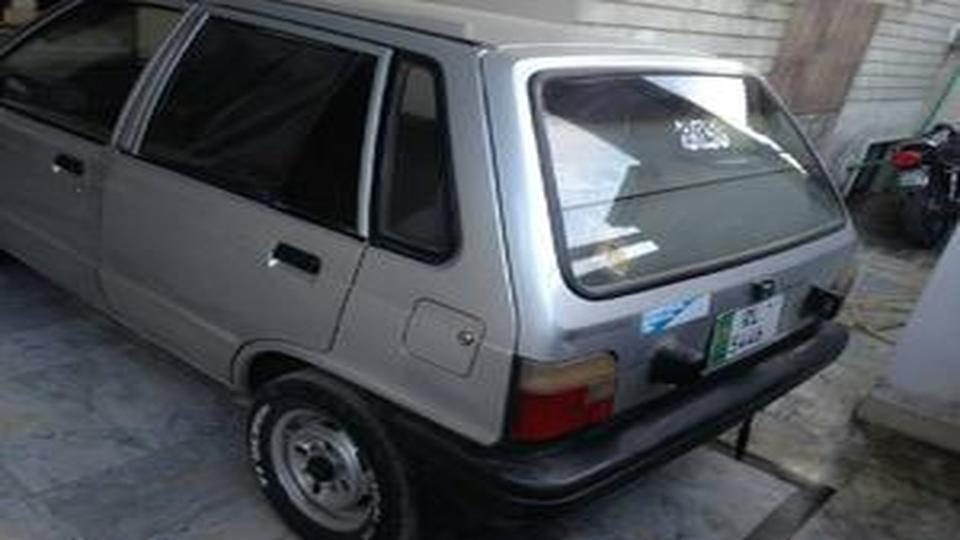NumberPlate: (712, 301, 790, 364)
